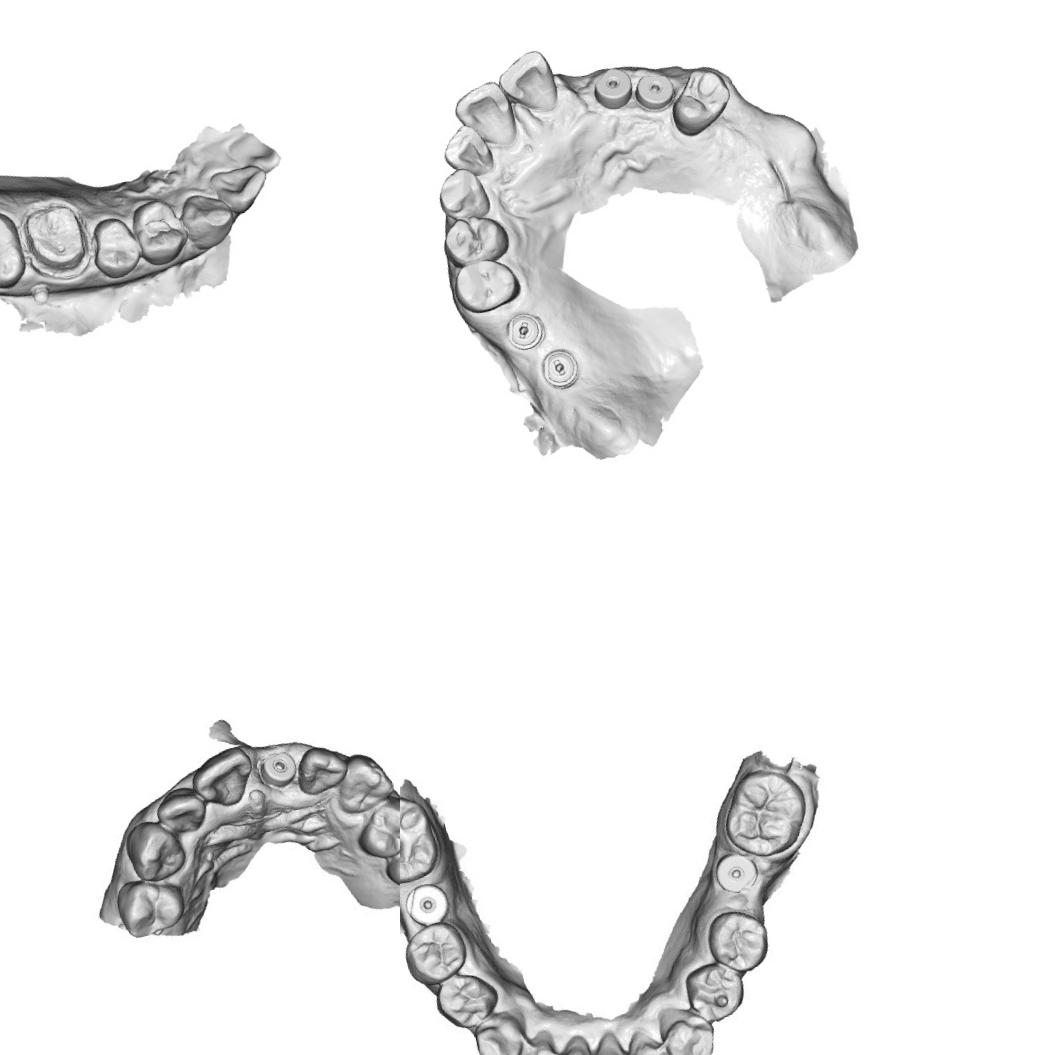canine: (176, 182, 244, 256), (431, 160, 495, 228), (122, 818, 188, 883), (336, 752, 398, 816), (657, 1001, 720, 1055), (467, 1010, 532, 1055)
crown: (16, 194, 95, 280)
implant: (585, 60, 642, 115), (248, 743, 304, 794), (708, 848, 765, 898), (403, 880, 454, 929), (632, 66, 680, 118)
implant_minus: (537, 342, 587, 396), (500, 308, 550, 356)
incisor: (448, 75, 524, 159), (490, 44, 564, 123), (194, 746, 262, 815), (436, 119, 499, 184), (210, 158, 272, 219), (300, 741, 351, 798), (156, 786, 205, 834), (621, 1025, 677, 1055), (504, 1033, 563, 1055), (581, 1032, 636, 1055), (543, 1034, 602, 1055)
molar: (713, 759, 819, 865), (400, 788, 447, 895), (0, 202, 31, 300)
premolar: (661, 60, 740, 141), (107, 870, 190, 945), (123, 188, 193, 268), (400, 919, 476, 991), (428, 965, 504, 1037), (700, 902, 772, 977), (448, 251, 527, 319), (81, 206, 146, 285), (680, 956, 750, 1028), (438, 208, 514, 272), (350, 792, 400, 863), (380, 833, 400, 898)
